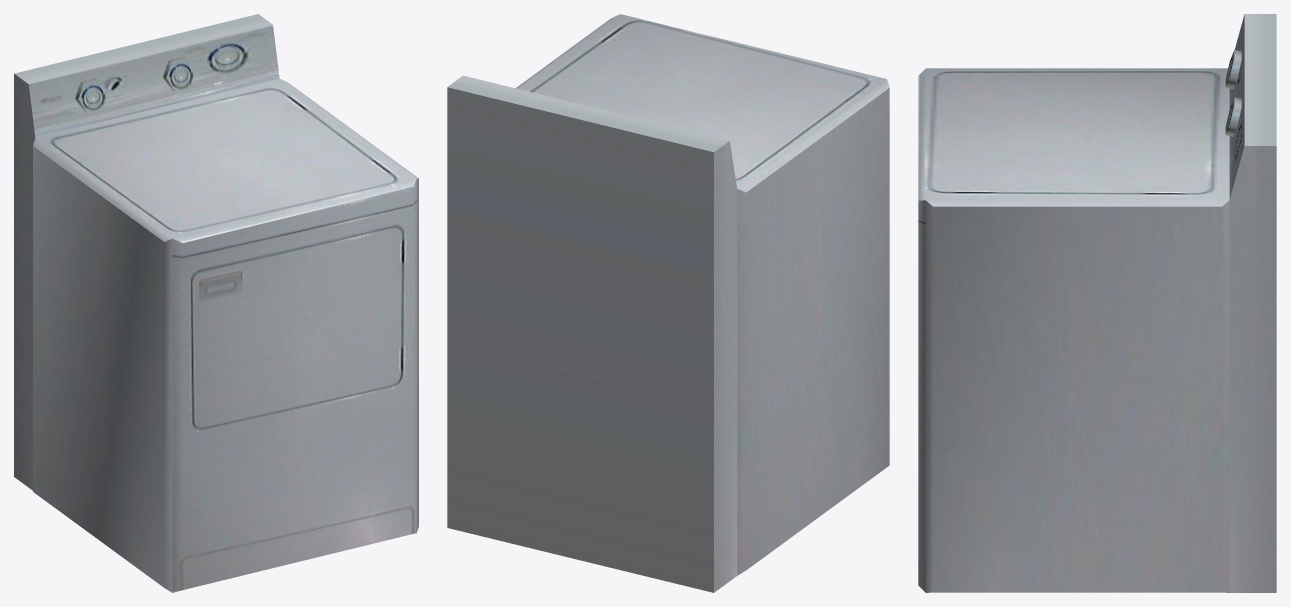
File: washer2.obj
The picture shows the model from 3 angles, left to right: view 1: azimuth 30°, elevation 25°; view 2: azimuth 150°, elevation 25°; view 3: azimuth 270°, elevation 25°; orthographic projection. The views are drawn at different scales.
Parts seen in each view (by area): view 1: washer1; view 2: washer1; view 3: washer1.
Part boxes in pixels (x1=…): washer1: x1=14, y1=14, x2=418, y2=592; washer1: x1=447, y1=14, x2=889, y2=592; washer1: x1=918, y1=14, x2=1276, y2=592.
Bounding box in the file's own units: 29.72 × 44.94 × 32.67.
Materials: 1 (1 with a texture image).
